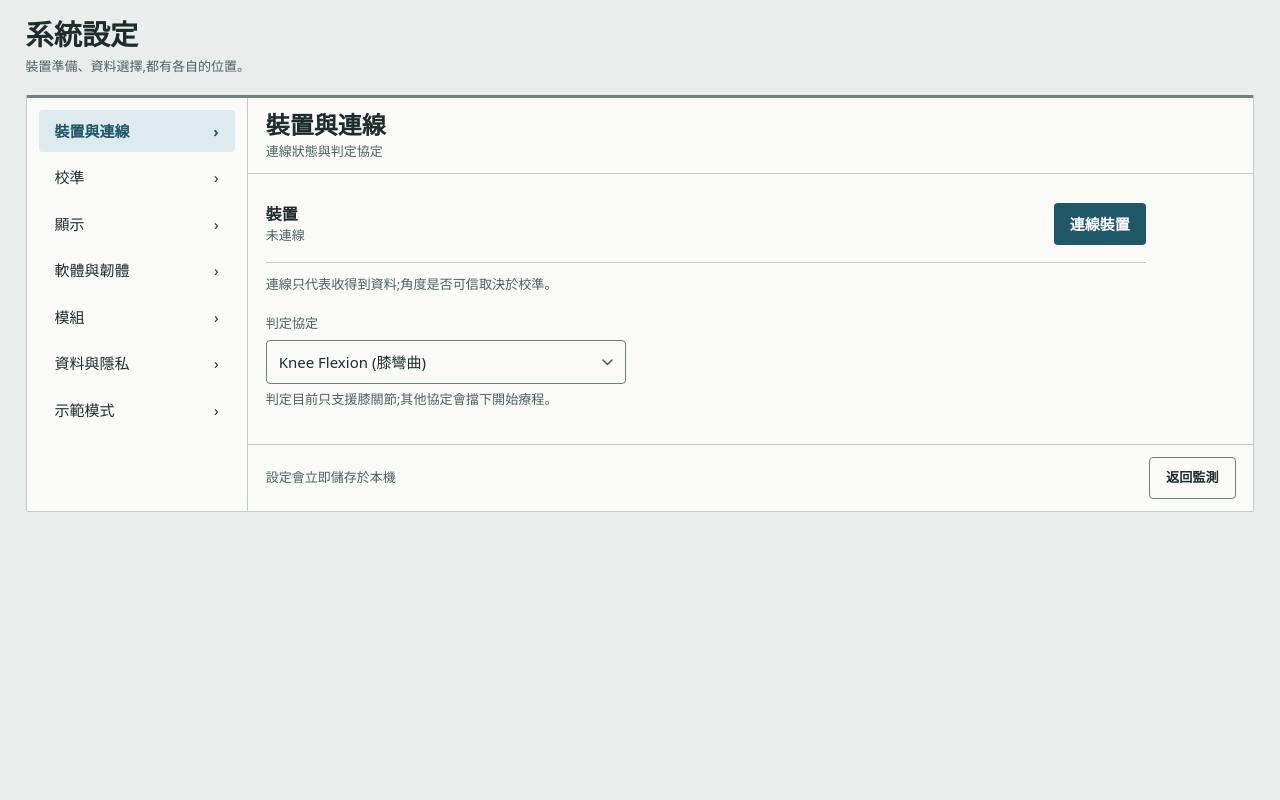
SettingsView 韌體 OTA 面板:連線態閘門 › 未連線時操作按鈕停用並顯示原因
Click the button "軟體與韌體 ›". click: (137, 270)
box: [39,249,235,292]
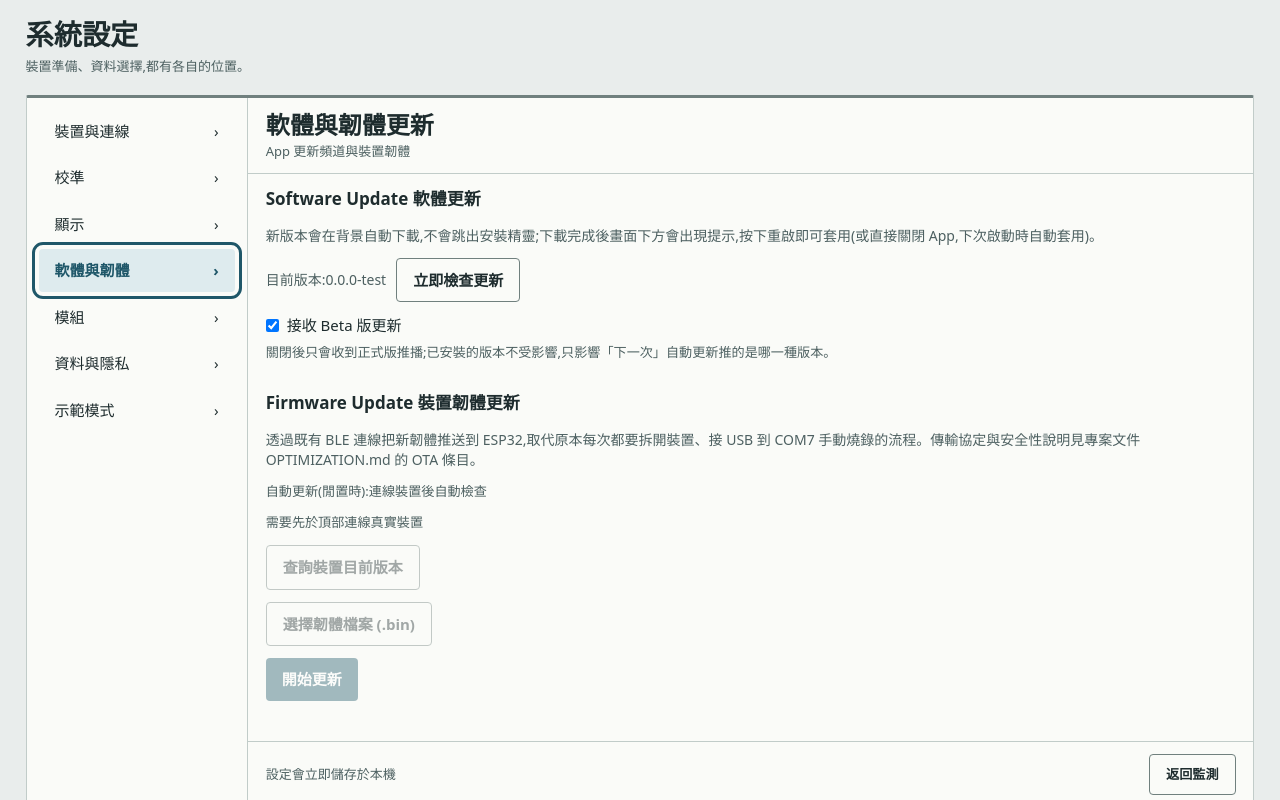
Expected: the text "需要先於頂部連線真實裝置" is shown, [266,513,423,531]
Expected: the button "選擇韌體檔案 (.bin)" is disabled, [266,602,432,646]
Expected: the button "查詢裝置目前版本" is disabled, [266,545,420,590]
